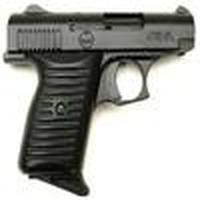gun: (2, 7, 184, 200)
